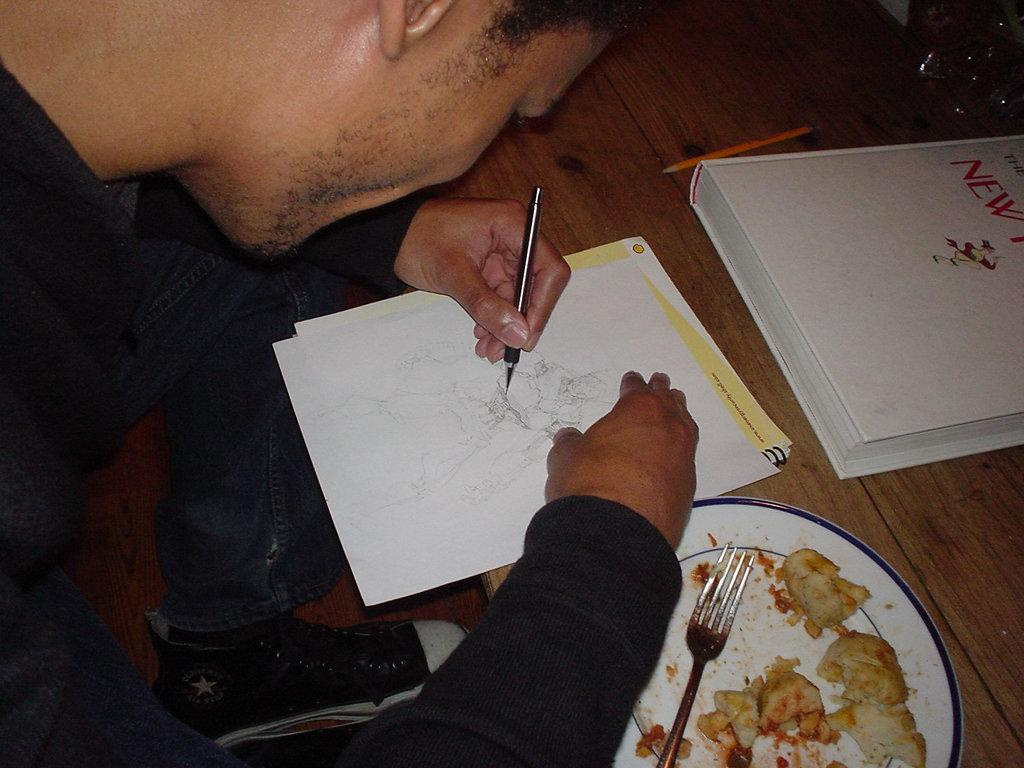pen: (506, 182, 551, 399)
